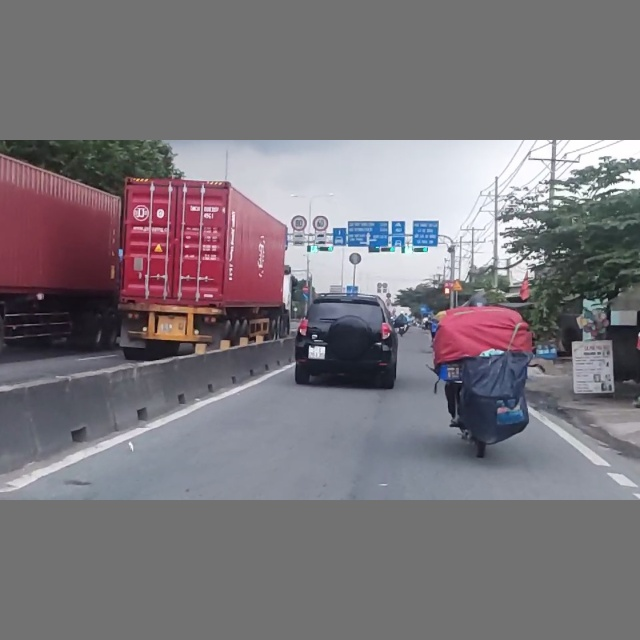P.102: (302, 285, 309, 292)
P.127*60: (313, 215, 329, 232)
P.127*80: (291, 215, 307, 231)
R.302a: (302, 293, 309, 299)
